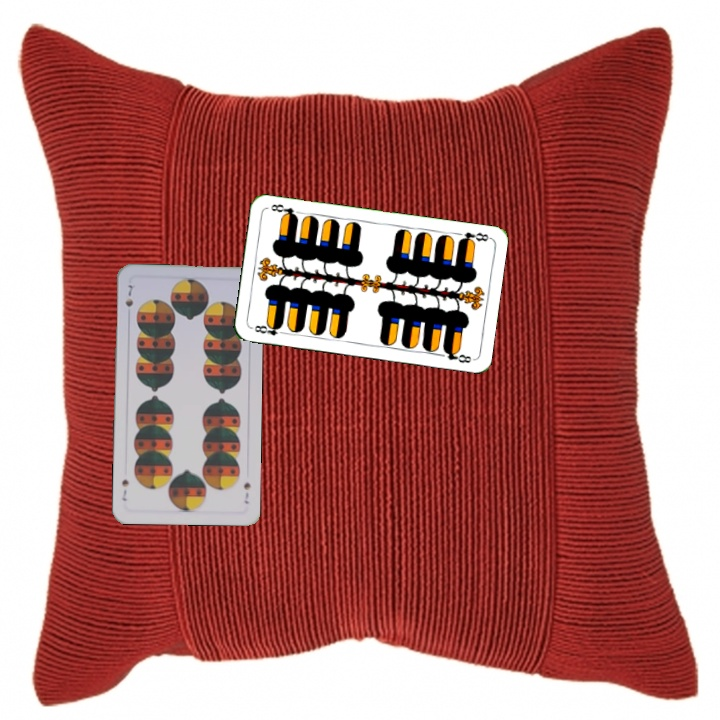E8: (248, 320, 289, 338), (455, 228, 492, 246)
S7: (121, 281, 136, 309), (240, 478, 253, 506)
